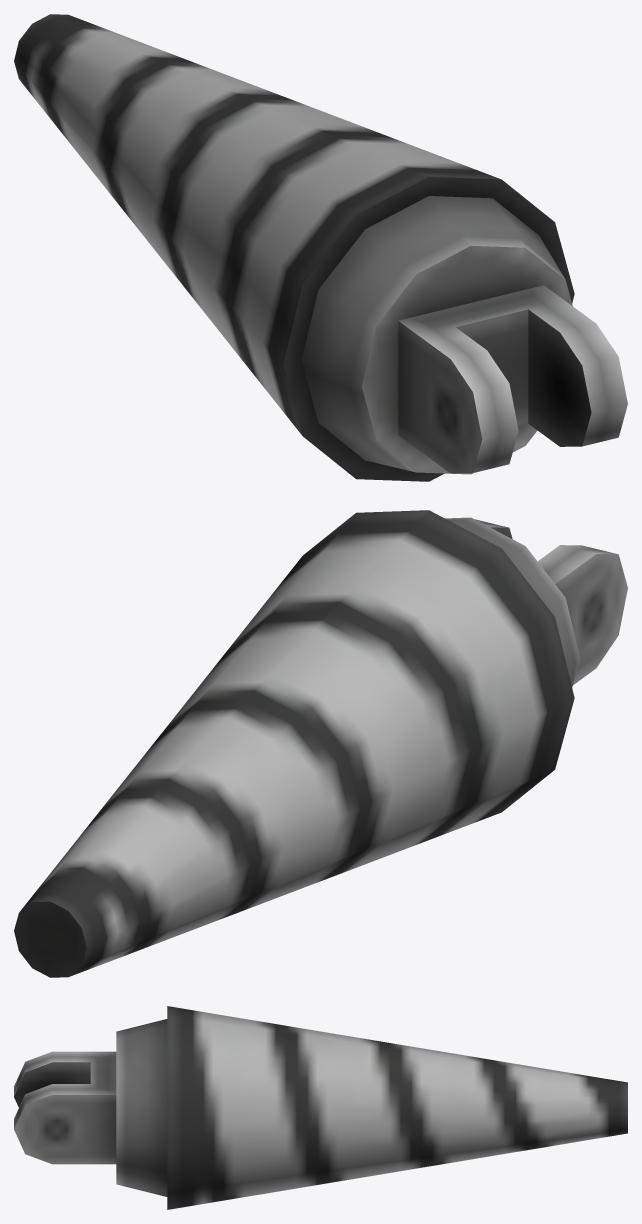
File: armcone.obj
The picture shows the model from 3 angles, top to bottom: view 1: azimuth 30°, elevation 25°; view 2: azimuth 150°, elevation 25°; view 3: azimuth 270°, elevation 25°; orthographic projection. The views are drawn at different scales.
Parts seen in each view (by area): view 1: 1; view 2: 1; view 3: 1.
Boxes of the visible parts, x1,y1,x2,y2 form: 1: (14,14,627,481); 1: (14,510,627,977); 1: (14,1006,627,1209).
Bounding box in the file's own units: 0.1 × 0.1 × 0.3.
Materials: 1 (1 with a texture image).
